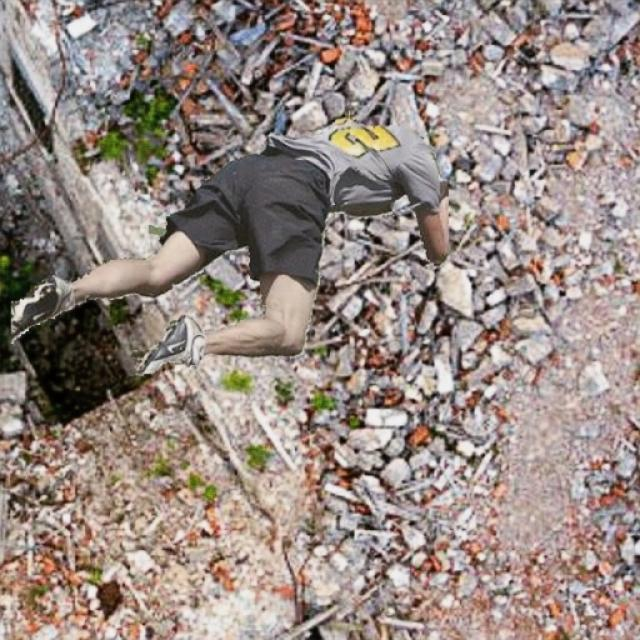Person in Rubble: (11, 110, 448, 375)
